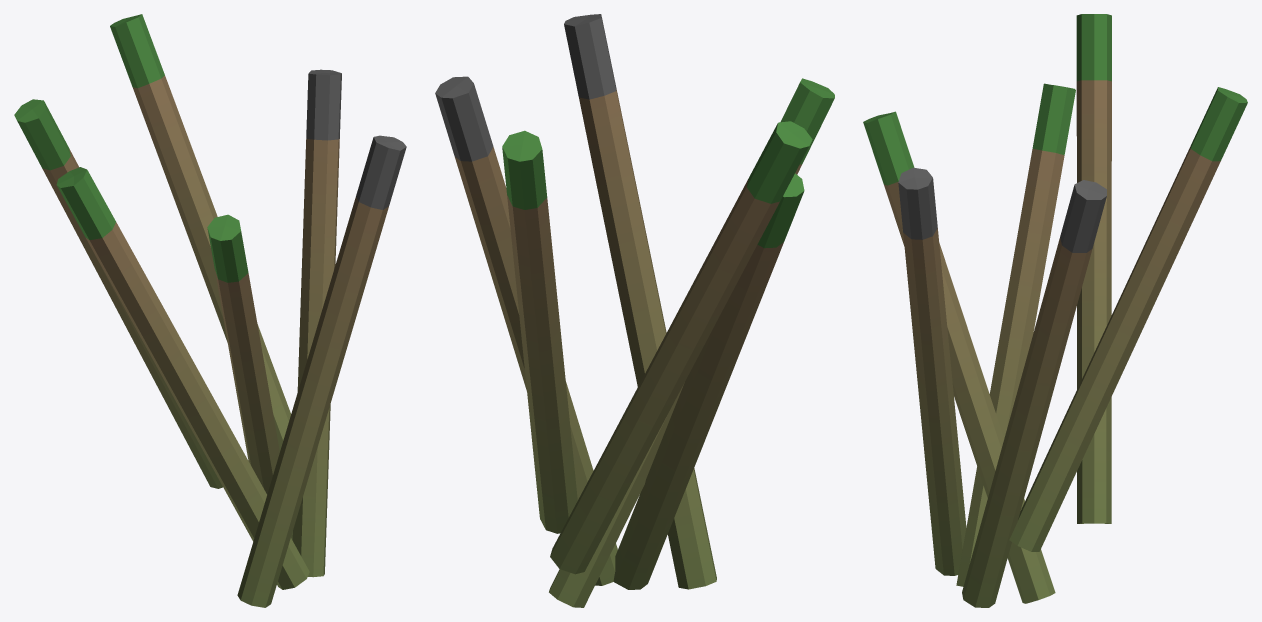
File: Office_Pens.fbx
3 views of the same model, side by side, from view 1: azimuth 30°, elevation 25°; view 2: azimuth 150°, elevation 25°; view 3: azimuth 270°, elevation 25° (orthographic). The views are drawn at different scales.
Parts seen in each view (by area): view 1: Office_Pens; view 2: Office_Pens; view 3: Office_Pens.
Part boxes in pixels (x1,y1,x2,y2): Office_Pens: [14, 14, 406, 607]; Office_Pens: [435, 14, 834, 607]; Office_Pens: [863, 14, 1247, 607].
Size of the model in its own units: 21.1 by 30.58 by 21.85.
